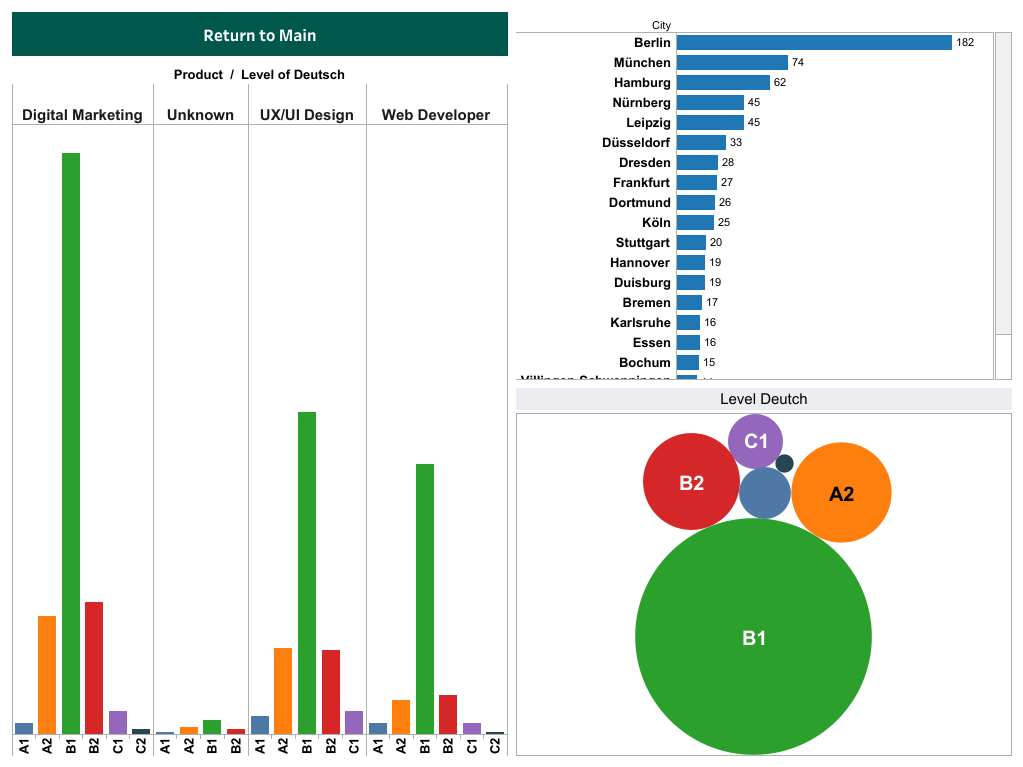

What the dashboard file says about the page in this screenshot:
{"tool":"tableau","page":{"name":"Dashboard 3","canvas":[1024,768],"ordinal":0},"visuals":[{"type":"dashboard-object","box":[8,8,504,51.8]},{"type":"worksheet","title":"City","mark":"Automatic","rows":["City"],"cols":["Level of Deutsch"],"box":[512,8,504,376]},{"type":"worksheet","title":"Sheet 1","mark":"Automatic","rows":["Stage"],"cols":["Product","Level of Deutsch"],"box":[8,59.8,504,700.2]},{"type":"worksheet","title":"Level Deutch","mark":"Circle","box":[512,384,504,376]}]}

Visuals, with their boxes in screenshot pixels (x1, y1, x2, y2), scaled from the page's 1024x768 canvas onto the 1023x767 screenshot:
dashboard-object: (x1=8, y1=8, x2=512, y2=60)
"City" worksheet: (x1=512, y1=8, x2=1015, y2=384)
"Sheet 1" worksheet: (x1=8, y1=60, x2=512, y2=759)
"Level Deutch" worksheet (Circle marks): (x1=512, y1=384, x2=1015, y2=759)
